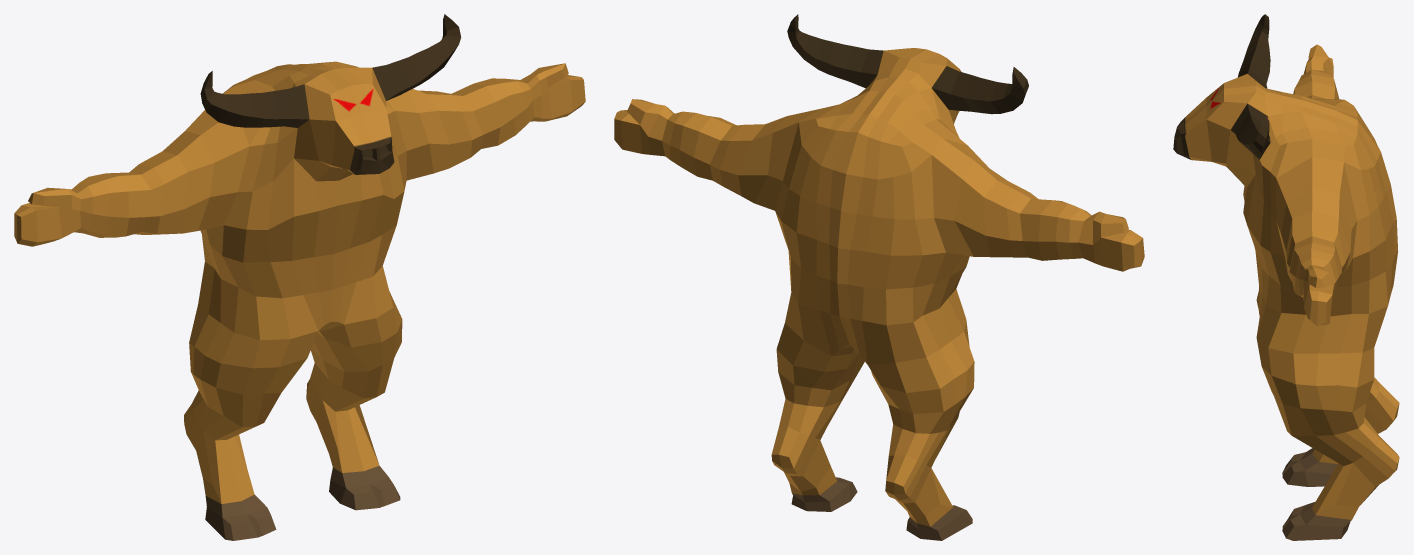
The model's file is minotaur_new.FBX.
The picture shows the model from 3 angles, left to right: view 1: azimuth 30°, elevation 25°; view 2: azimuth 150°, elevation 25°; view 3: azimuth 270°, elevation 25°; orthographic projection. The views are drawn at different scales.
Visible parts, largest first — view 1: Box001; view 2: Box001; view 3: Box001.
Boxes of the visible parts, x1,y1,x2,y2 form: Box001: (14,14,585,540); Box001: (614,14,1144,540); Box001: (1173,14,1399,540).
Size of the model in its own units: 35.94 by 29.72 by 13.89.
